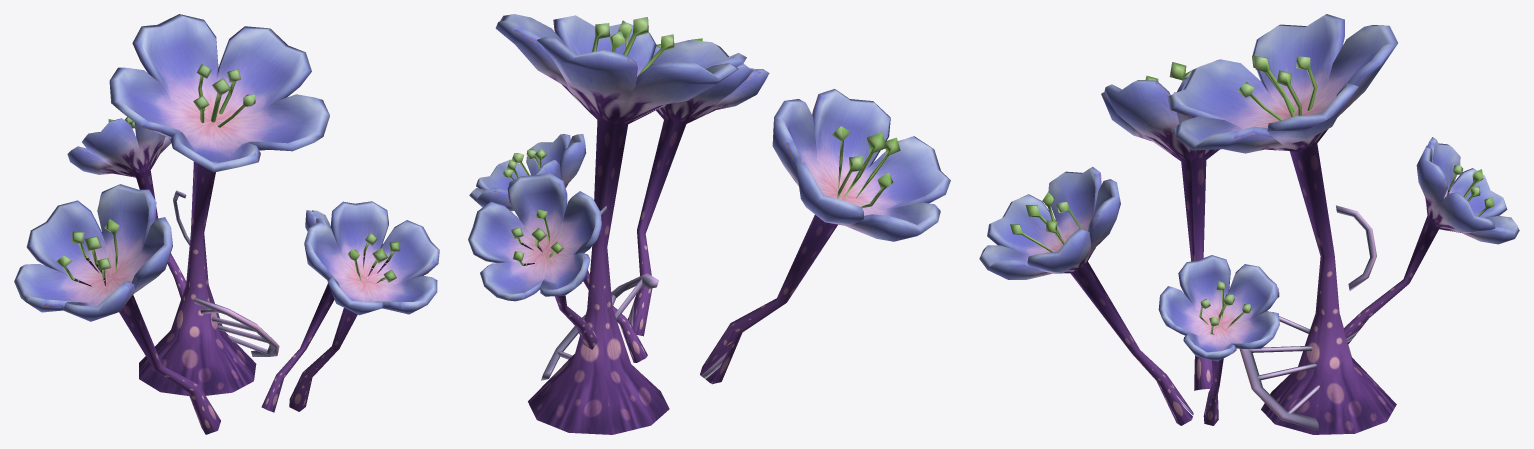
The model's file is n_SWFgogra06b.glb.
3 views of the same model, side by side, from view 1: azimuth 30°, elevation 25°; view 2: azimuth 150°, elevation 25°; view 3: azimuth 270°, elevation 25° (orthographic). The views are drawn at different scales.
Visible parts, largest first — view 1: n_SWFgogra06b; view 2: n_SWFgogra06b; view 3: n_SWFgogra06b.
Boxes of the visible parts, bbox=[...] form: n_SWFgogra06b: bbox=[14, 14, 439, 434]; n_SWFgogra06b: bbox=[468, 14, 950, 434]; n_SWFgogra06b: bbox=[979, 14, 1519, 434].
Bounding box in the file's own units: 1.25 × 1.05 × 1.36.
1 material, 1 textured.
